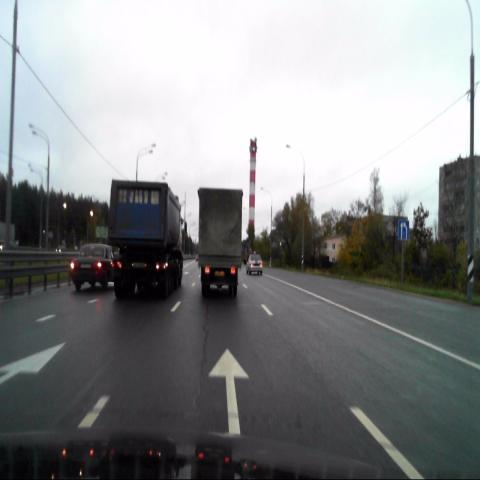5_15_5: (398, 219, 409, 239)
